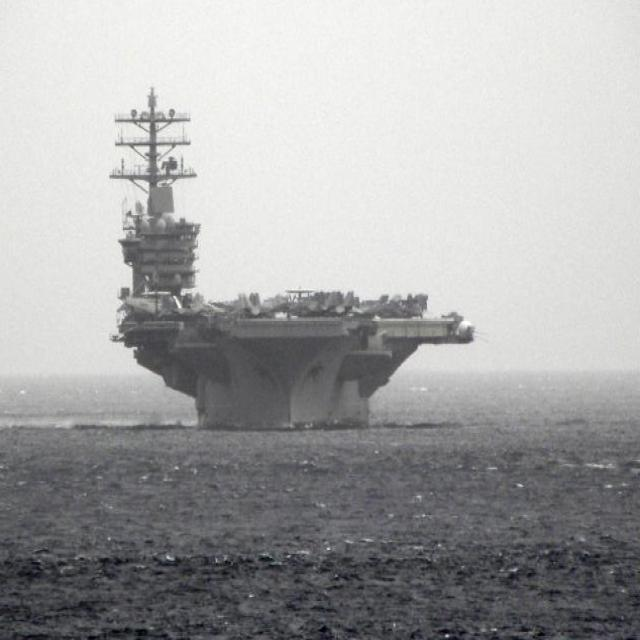Portanaves: (108, 80, 482, 438)
